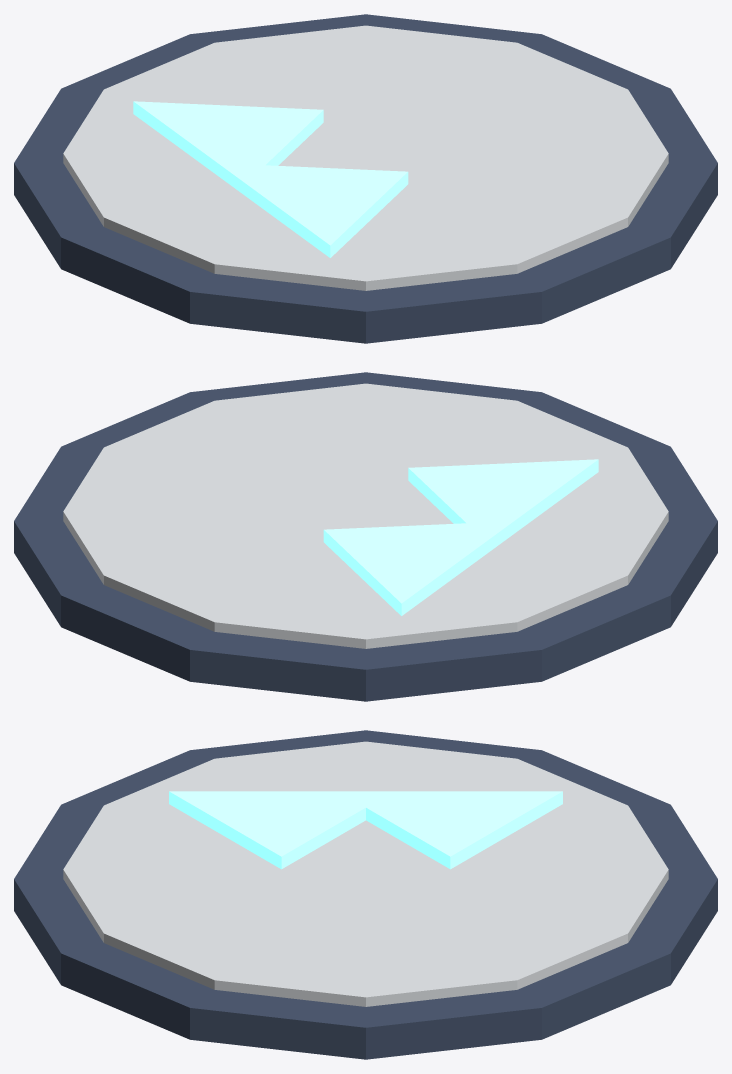
Rendered from floor_route_marker.glb.
3 renders of one model, top to bottom at view 1: azimuth 30°, elevation 25°; view 2: azimuth 150°, elevation 25°; view 3: azimuth 270°, elevation 25°, orthographic.
Visible parts, largest first — view 1: DL017_FloorRouteMarker_hull_offwhite, DL017_FloorRouteMarker_graphite_navy, DL017_FloorRouteMarker_emissive_cyan; view 2: DL017_FloorRouteMarker_hull_offwhite, DL017_FloorRouteMarker_graphite_navy, DL017_FloorRouteMarker_emissive_cyan; view 3: DL017_FloorRouteMarker_hull_offwhite, DL017_FloorRouteMarker_graphite_navy, DL017_FloorRouteMarker_emissive_cyan.
Part boxes in pixels (box(x1,y1,x2,y2)): DL017_FloorRouteMarker_hull_offwhite: box(63, 25, 668, 290); DL017_FloorRouteMarker_graphite_navy: box(14, 14, 717, 343); DL017_FloorRouteMarker_emissive_cyan: box(133, 101, 408, 257); DL017_FloorRouteMarker_hull_offwhite: box(63, 383, 668, 648); DL017_FloorRouteMarker_graphite_navy: box(14, 372, 717, 701); DL017_FloorRouteMarker_emissive_cyan: box(323, 459, 598, 615); DL017_FloorRouteMarker_hull_offwhite: box(63, 741, 668, 1006); DL017_FloorRouteMarker_graphite_navy: box(14, 730, 717, 1059); DL017_FloorRouteMarker_emissive_cyan: box(169, 791, 562, 869).
Size of the model in its own units: 1 by 0.085 by 1.
